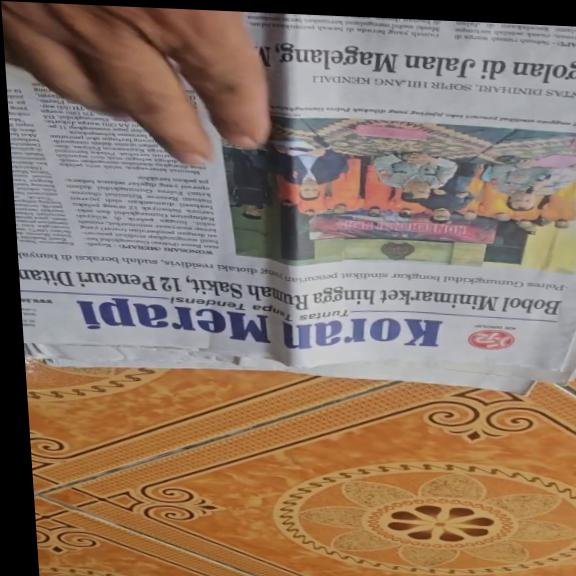Kertas: (6, 68, 575, 380)
